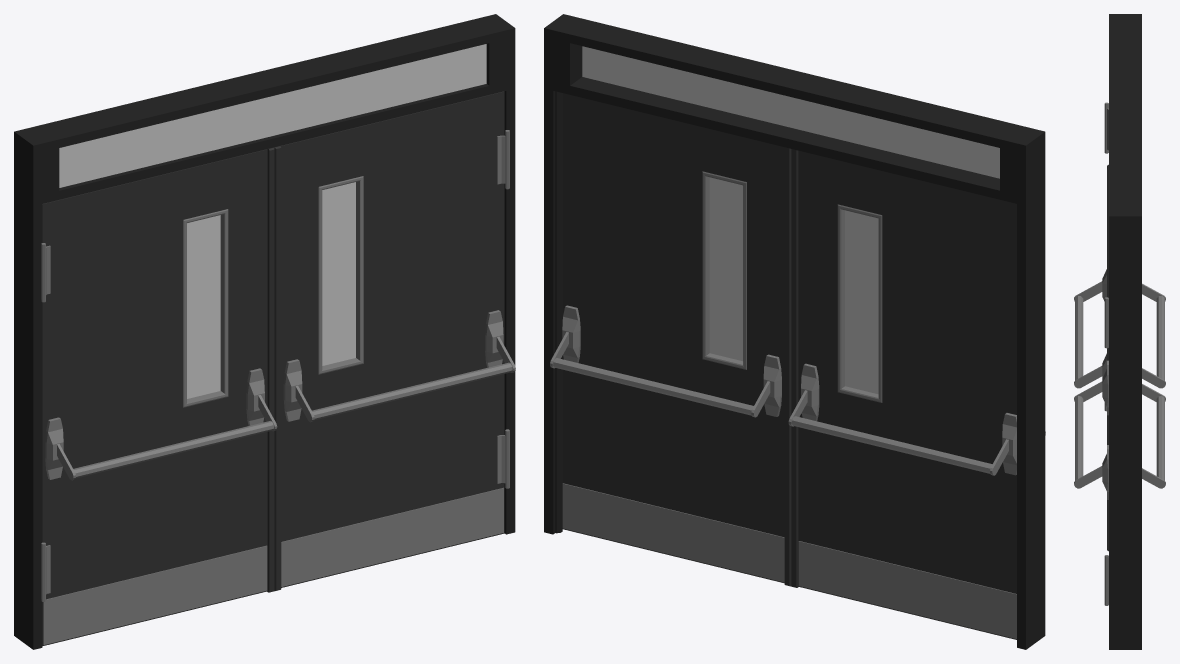
Rendered from M_DubleDoor02_1.fbx.
The picture shows the model from 3 angles, left to right: view 1: azimuth 30°, elevation 25°; view 2: azimuth 150°, elevation 25°; view 3: azimuth 270°, elevation 25°; orthographic projection. The views are drawn at different scales.
Parts seen in each view (by area): view 1: M_DubleDoor02_1; view 2: M_DubleDoor02_1; view 3: M_DubleDoor02_1.
Part boxes in pixels (left/top/right/bottom): M_DubleDoor02_1: left=14, top=14, right=515, bottom=649; M_DubleDoor02_1: left=544, top=14, right=1045, bottom=649; M_DubleDoor02_1: left=1074, top=14, right=1165, bottom=649.
Size of what is drawn, in the model's own units: 250 by 47.99 by 250.
